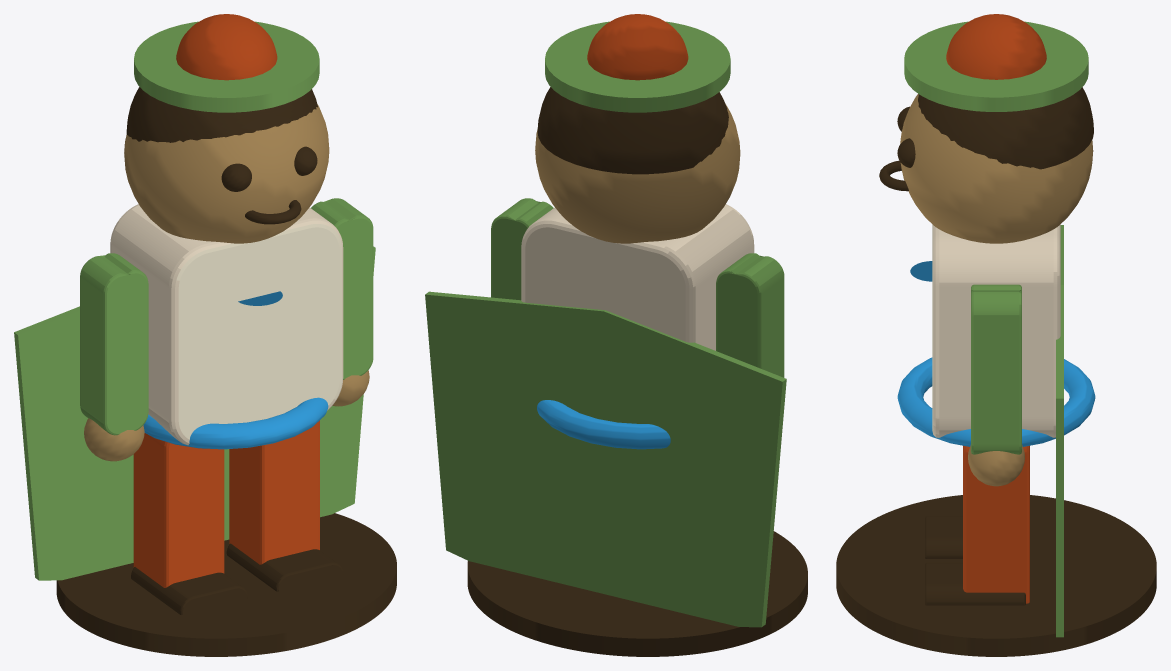
The model's file is 0597_考古图鉴_兵马俑.glb.
The picture shows the model from 3 angles, left to right: view 1: azimuth 30°, elevation 25°; view 2: azimuth 150°, elevation 25°; view 3: azimuth 270°, elevation 25°; orthographic projection.
Visible parts, largest first — view 1: card_0597; view 2: card_0597; view 3: card_0597.
Boxes of the visible parts, left/top/right/bottom form: card_0597: left=14, top=14, right=396, bottom=656; card_0597: left=425, top=14, right=807, bottom=656; card_0597: left=836, top=14, right=1156, bottom=656.
Size of the model in its own units: 0.6447 by 1 by 0.5033.
